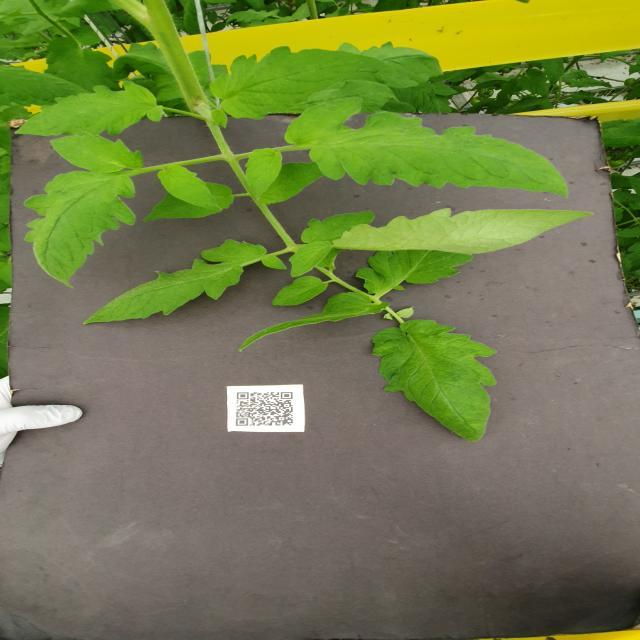Tomato healthy leaf: (286, 96, 568, 199), (80, 238, 286, 324), (372, 320, 498, 444), (208, 44, 390, 120), (23, 170, 135, 288), (328, 207, 596, 255), (238, 292, 391, 354), (6, 80, 162, 137), (354, 250, 476, 296), (48, 130, 144, 172), (159, 166, 222, 212), (298, 210, 376, 245), (272, 275, 331, 308), (246, 147, 281, 202), (286, 241, 334, 278)
